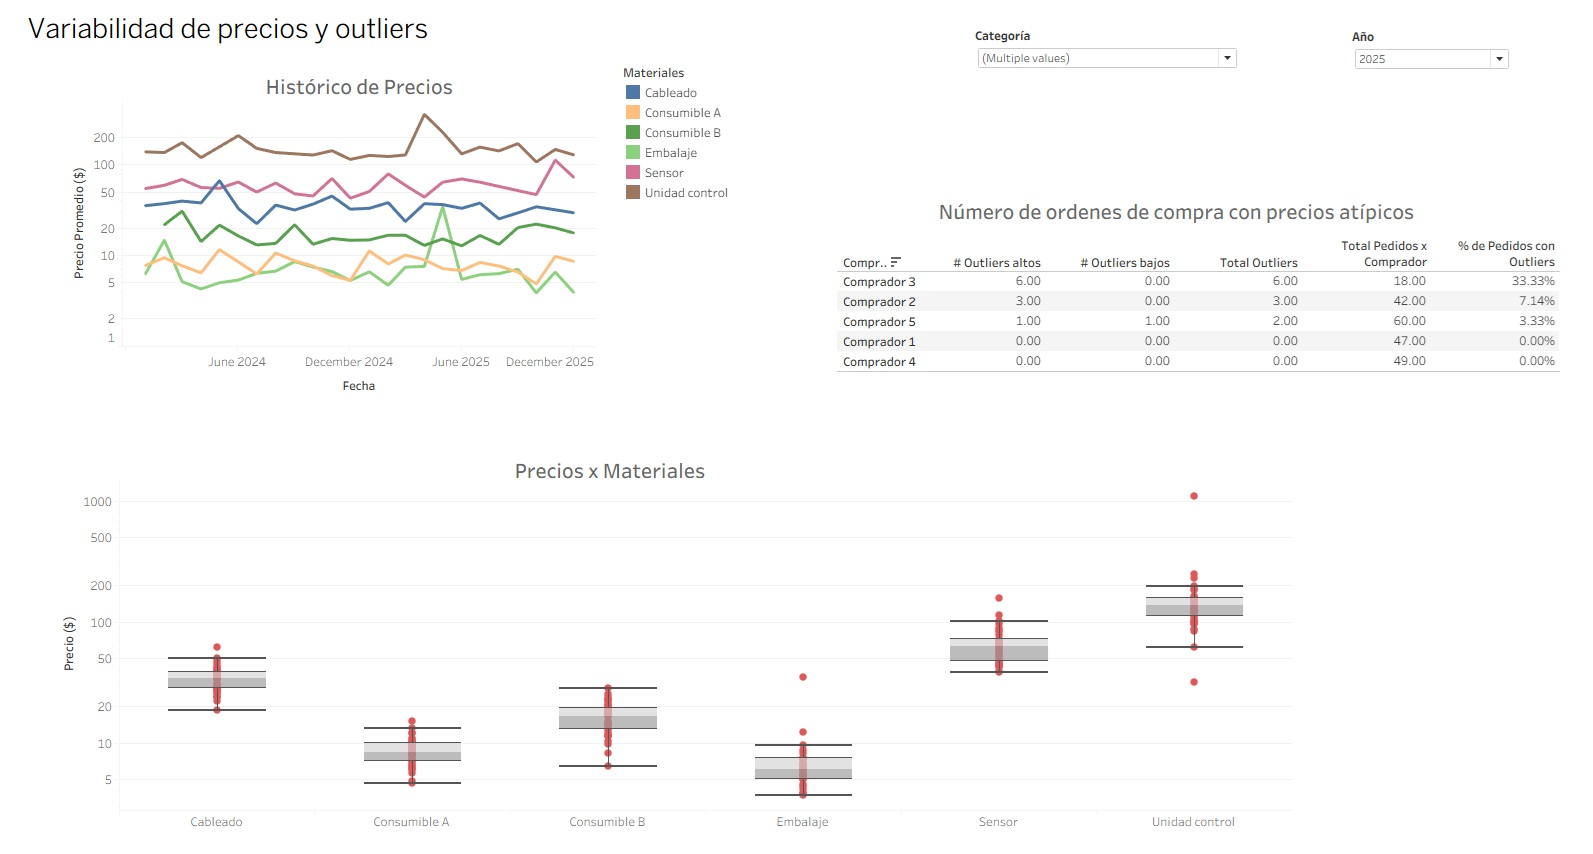

This screenshot's page, from the dashboard's own definition file:
{"tool":"tableau","page":{"name":"AnaPrecios","canvas":[1600,900],"ordinal":0},"visuals":[{"type":"text","box":[18,3,500,93]},{"type":"filter","title":"Preciovst","param":"[federated.1c9wdf00njrirr15ikbx604gjcok].[none:Purchasing Category:nk]","box":[968,49,265,86]},{"type":"parameter","param":"[Parameters].[Parameter 1]","box":[1345,50,160,44]},{"type":"text","box":[256,76,201,64]},{"type":"legend","title":"Preciovst","param":"[federated.1c9wdf00njrirr15ikbx604gjcok].[none:Material group:nk]","box":[616,86,140,345]},{"type":"worksheet","title":"Preciovst","mark":"Automatic","rows":["Calculation_0409328830246922"],"cols":["PO Date"],"box":[56,123.7,532.8,299.2]},{"type":"text","box":[929,213,505,40]},{"type":"worksheet","title":"Outliers","mark":"Automatic","rows":["Buyer"],"box":[830,253,723,197]},{"type":"text","box":[505,471,228,42]},{"type":"worksheet","title":"BoxPrMat","mark":"Circle","rows":["Product Unit Price"],"cols":["Material group"],"box":[46,502,1239,370]},{"type":"text","box":[1278,859,315,42]}]}

Visuals, with their boxes on the page's 1600x900 design canvas (x1, y1, x2, y2). These are canvas units, not pixel positions in the 1593x854 screenshot, which may show the page scaled, cropped or inside an application window:
text: {"left": 18, "top": 3, "right": 518, "bottom": 96}
"Preciovst" filter: {"left": 968, "top": 49, "right": 1233, "bottom": 135}
parameter: {"left": 1345, "top": 50, "right": 1505, "bottom": 94}
text: {"left": 256, "top": 76, "right": 457, "bottom": 140}
"Preciovst" legend: {"left": 616, "top": 86, "right": 756, "bottom": 431}
"Preciovst" worksheet: {"left": 56, "top": 124, "right": 589, "bottom": 423}
text: {"left": 929, "top": 213, "right": 1434, "bottom": 253}
"Outliers" worksheet: {"left": 830, "top": 253, "right": 1553, "bottom": 450}
text: {"left": 505, "top": 471, "right": 733, "bottom": 513}
"BoxPrMat" worksheet (Circle marks): {"left": 46, "top": 502, "right": 1285, "bottom": 872}
text: {"left": 1278, "top": 859, "right": 1593, "bottom": 901}
